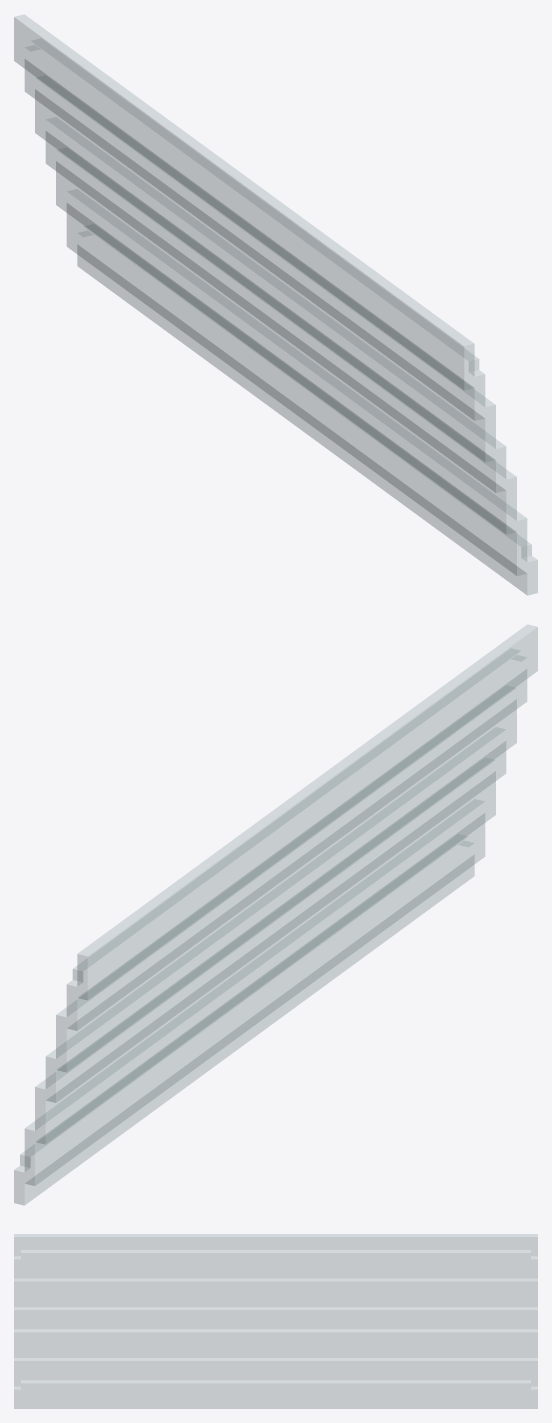
Rendered from flatbed_truck_windscreen.glb.
3 views of the same model, one above another, from view 1: azimuth 30°, elevation 25°; view 2: azimuth 150°, elevation 25°; view 3: azimuth 270°, elevation 25° (orthographic). The views are drawn at different scales.
Parts seen in each view (by area): view 1: body:compound; view 2: body:compound; view 3: body:compound.
Boxes of the visible parts, <box> form: body:compound: <box>14,14,537,595</box>; body:compound: <box>14,624,537,1205</box>; body:compound: <box>14,1234,537,1408</box>.
Size of the model in its own units: 0.2188 by 0.75 by 2.31.
